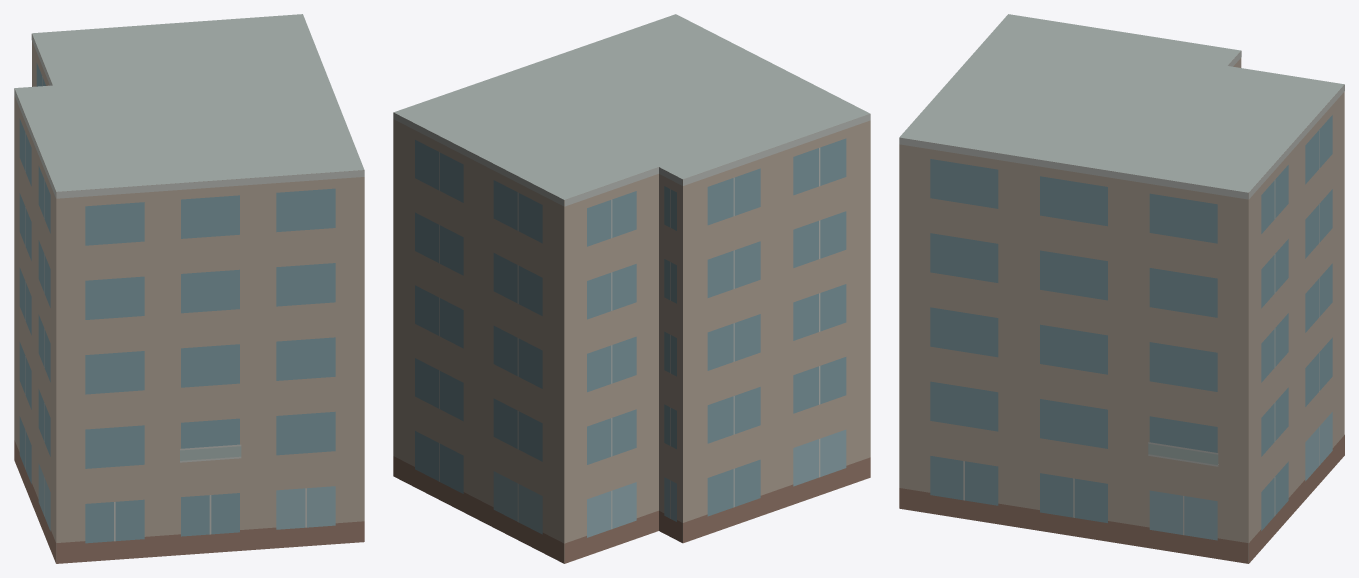
File: survey-upis-32702279.glb
3 views of the same model, side by side, from view 1: azimuth 30°, elevation 25°; view 2: azimuth 150°, elevation 25°; view 3: azimuth 270°, elevation 25° (orthographic). The views are drawn at different scales.
Visible parts, largest first — view 1: survey-upis-32702279.tmp; view 2: survey-upis-32702279.tmp; view 3: survey-upis-32702279.tmp.
Part boxes in pixels (bbox=[...]): survey-upis-32702279.tmp: bbox=[14, 14, 364, 563]; survey-upis-32702279.tmp: bbox=[393, 14, 870, 563]; survey-upis-32702279.tmp: bbox=[899, 14, 1344, 563].
Size of the model in its own units: 13.65 by 13.2 by 14.37.
